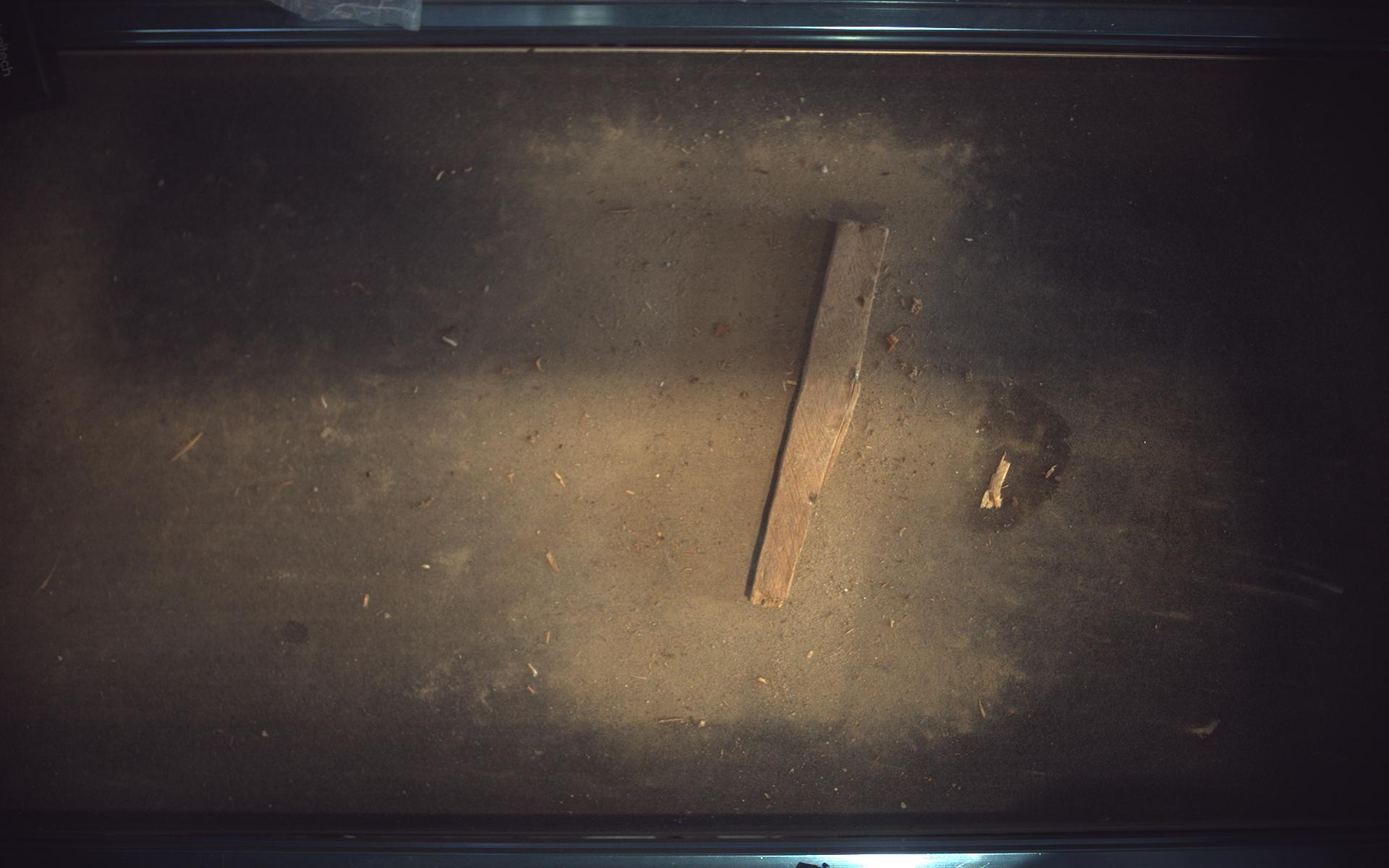wood: (750, 220, 890, 608)
